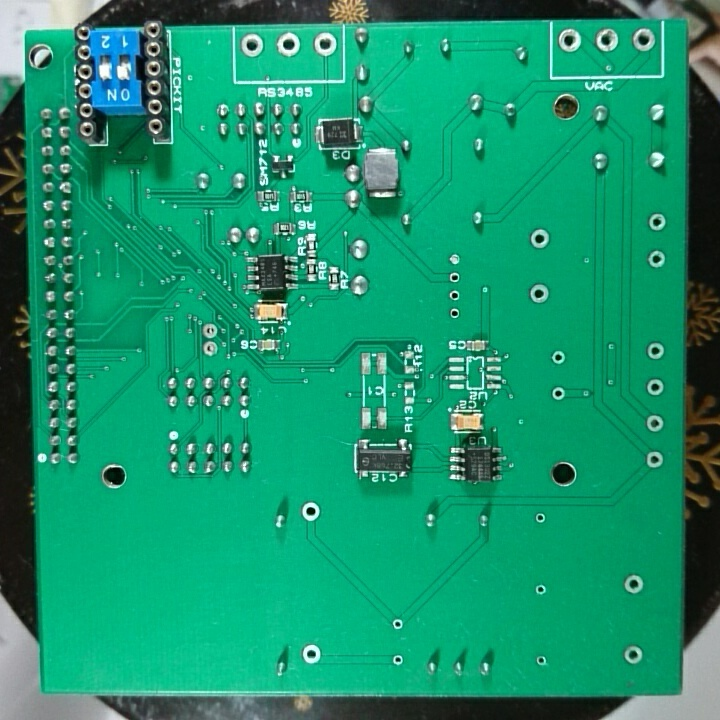F: (239, 30, 268, 62), (592, 26, 622, 55), (311, 29, 339, 60), (274, 30, 302, 60), (528, 226, 554, 255), (557, 26, 583, 55), (619, 571, 646, 598), (526, 280, 553, 307), (631, 26, 657, 54), (299, 498, 325, 525), (619, 642, 648, 666), (642, 375, 668, 400), (299, 641, 324, 666), (643, 411, 667, 436), (645, 246, 667, 273), (643, 448, 665, 472), (644, 340, 666, 363), (647, 210, 668, 234), (199, 339, 221, 359), (446, 249, 465, 270), (199, 320, 220, 339), (550, 346, 567, 369), (549, 383, 568, 403), (532, 509, 550, 527), (446, 269, 464, 285), (390, 615, 405, 634), (447, 287, 463, 304), (447, 306, 463, 322), (390, 651, 405, 668), (534, 653, 549, 670), (533, 582, 548, 598)
